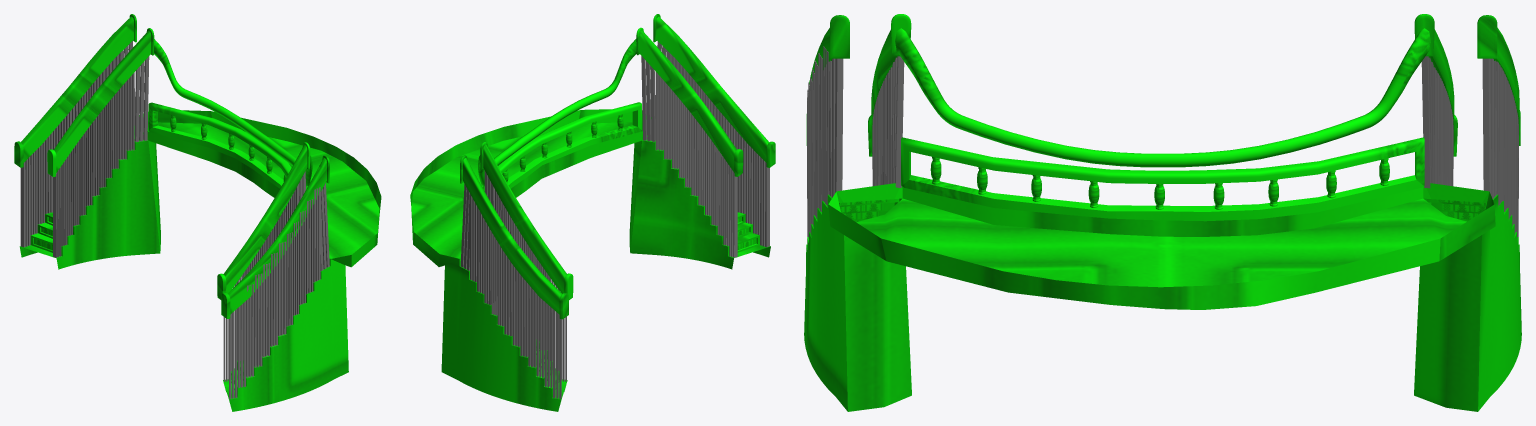
The picture shows the model from 3 angles, left to right: view 1: azimuth 30°, elevation 25°; view 2: azimuth 150°, elevation 25°; view 3: azimuth 270°, elevation 25°; orthographic projection. The views are drawn at different scales.
Parts seen in each view (by area): view 1: rpeks, 계단 장식, Box060, 계단 울타리, Object005, 계단 기둥008; view 2: rpeks, 계단 장식, Box060, 계단 울타리, Object005, 계단 기둥008; view 3: rpeks, 계단 장식, 계단 울타리, Object005, Box060, 계단 기둥008.
Part boxes in pixels (x1,y1,x2,y2): rpeks: (19, 110, 381, 411); 계단 장식: (20, 41, 329, 399); Box060: (14, 14, 329, 318); 계단 울타리: (148, 102, 291, 188); Object005: (154, 39, 312, 186); 계단 기둥008: (170, 115, 286, 181); rpeks: (410, 109, 770, 411); 계단 장식: (460, 41, 769, 399); Box060: (460, 14, 775, 319); 계단 울타리: (482, 102, 641, 190); Object005: (478, 39, 636, 186); 계단 기둥008: (502, 114, 623, 182); rpeks: (804, 183, 1521, 411); 계단 장식: (807, 46, 1518, 238); 계단 울타리: (901, 137, 1424, 221); Object005: (895, 28, 1430, 167); Box060: (806, 14, 1520, 156); 계단 기둥008: (930, 157, 1389, 209).
Size of the model in its own units: 454 by 421 by 720.
